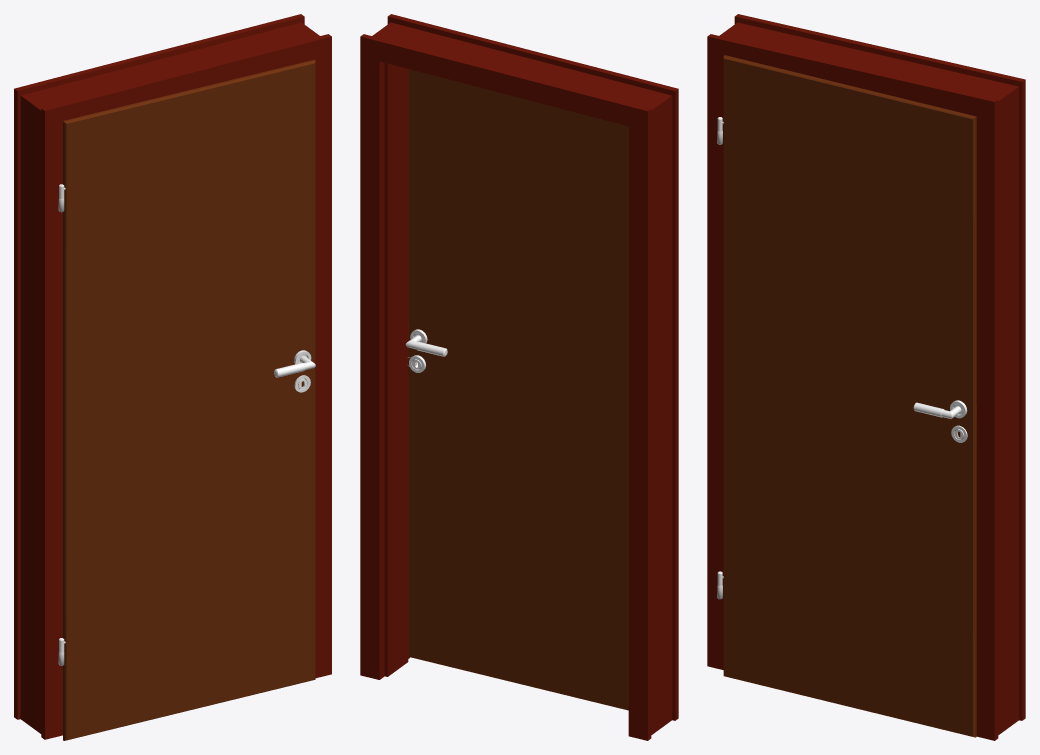
File: door.fbx
3 renders of one model, left to right at view 1: azimuth 30°, elevation 25°; view 2: azimuth 150°, elevation 25°; view 3: azimuth 330°, elevation 25°, orthographic.
Parts seen in each view (by area): view 1: porta, base, handMain; view 2: porta, base, handMain; view 3: porta, base, handMain.
Part boxes in pixels (x1=…): porta: x1=63, y1=59, x2=315, y2=740; base: x1=14, y1=14, x2=331, y2=739; handMain: x1=274, y1=350, x2=315, y2=392; porta: x1=408, y1=69, x2=628, y2=710; base: x1=360, y1=14, x2=678, y2=740; handMain: x1=405, y1=329, x2=447, y2=372; porta: x1=723, y1=55, x2=976, y2=737; base: x1=707, y1=14, x2=1025, y2=740; handMain: x1=913, y1=400, x2=967, y2=442.
Size of what is drawn, in the model's own units: 0.9396 by 2 by 0.2524.
